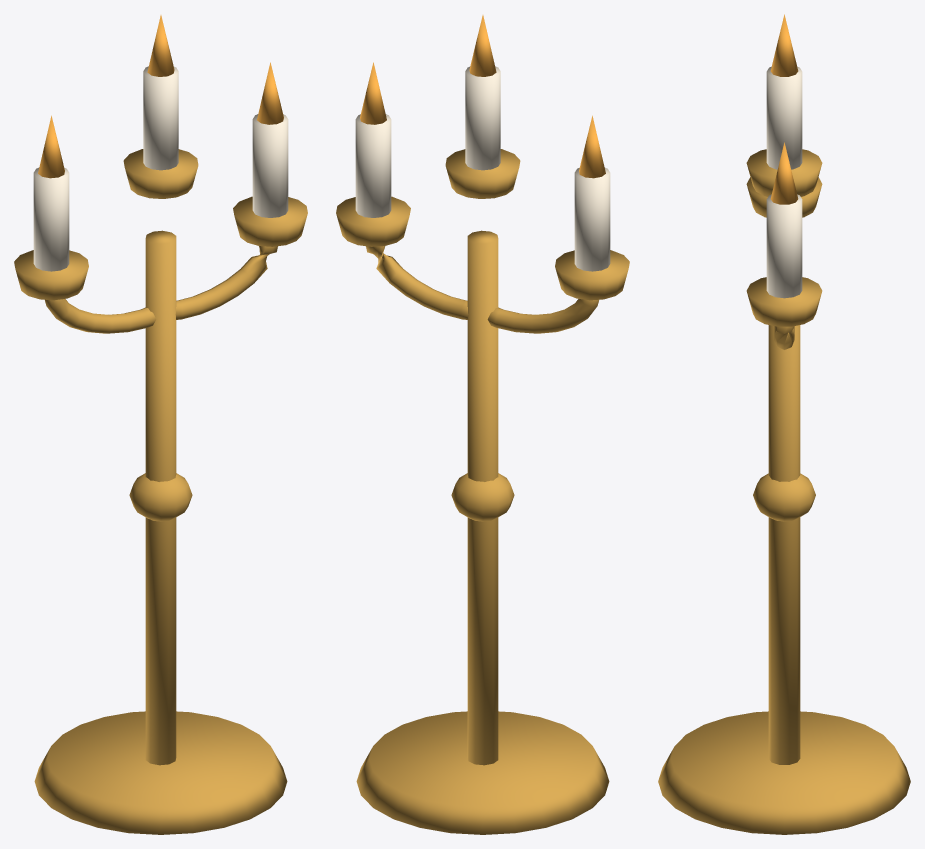
File: candle-stand.glb
3 renders of one model, left to right at view 1: azimuth 30°, elevation 25°; view 2: azimuth 150°, elevation 25°; view 3: azimuth 270°, elevation 25°, orthographic.
Parts seen in each view (by area): view 1: stand, flame; view 2: stand, flame; view 3: stand, flame.
Part boxes in pixels (x1,y1,x2,y2): stand: (14,66,307,834); flame: (38,15,283,178); stand: (336,66,629,834); flame: (360,15,605,178); stand: (658,66,910,834); flame: (770,14,798,204).
Size of the model in its own units: 0.517 by 1.34 by 0.4.
